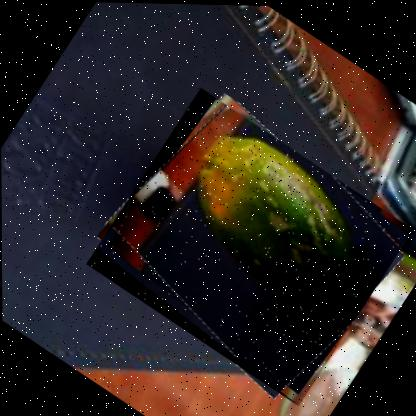orange_rotten: (84, 82, 415, 405)
